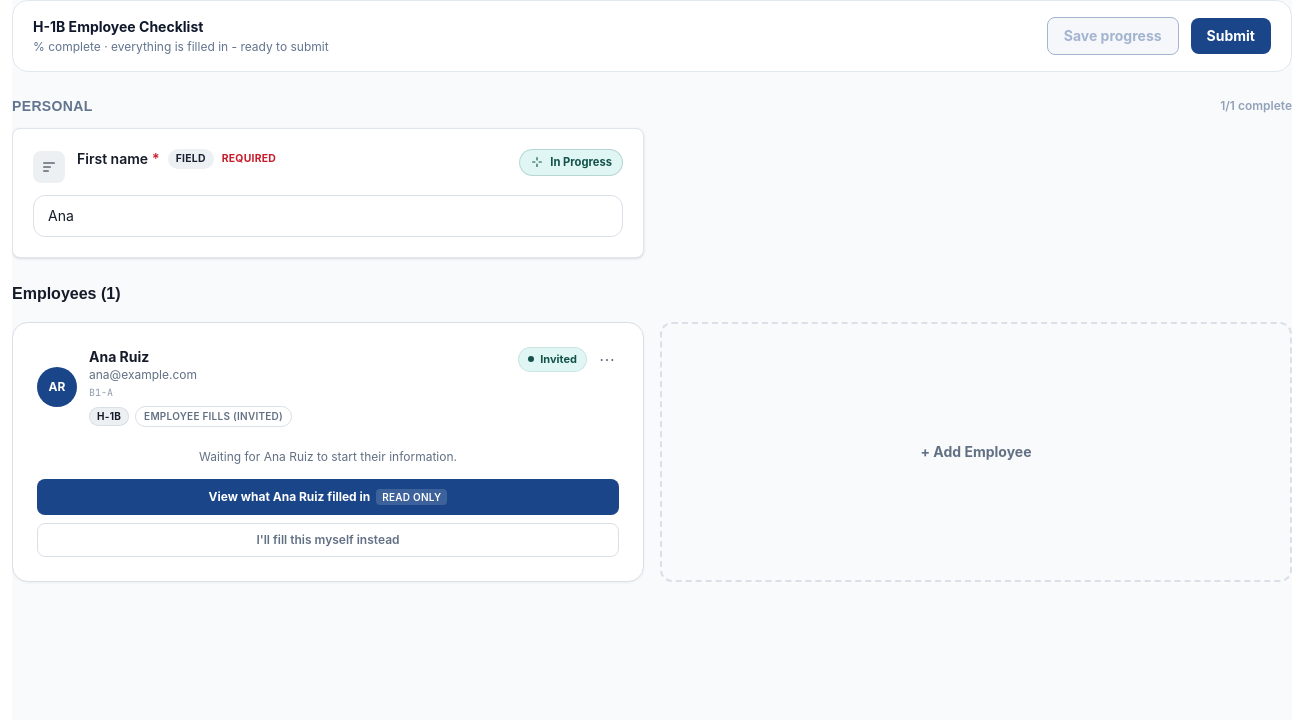
Test case: read-only view of an invited employee › opens with a 'Read only view' banner, loads the file WITHOUT write ability, polls, and shows no Save progress / Submit
Step 1. Click the button "View what Ana Ruiz filled in" → point(328, 497), box [37,479,619,515]
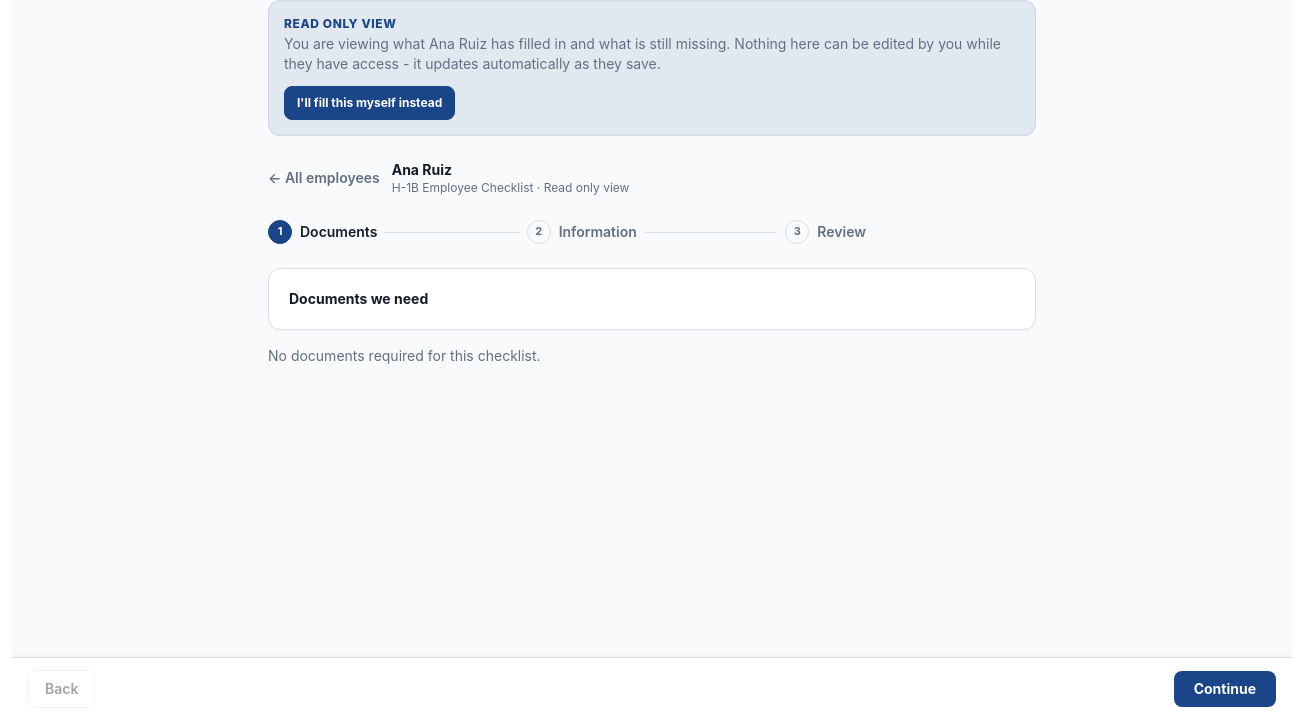
Expected: the message with test id "read-only-banner" is shown, [268,0,1036,136]
Expected: the text "Read only view" is shown, [284,16,396,31]
Expected: the button "Save progress" is gone
// the employee's answer is displayed but cannot be edited
Step 2. Click the button "Continue" → point(1225, 689), box [1174,671,1276,707]
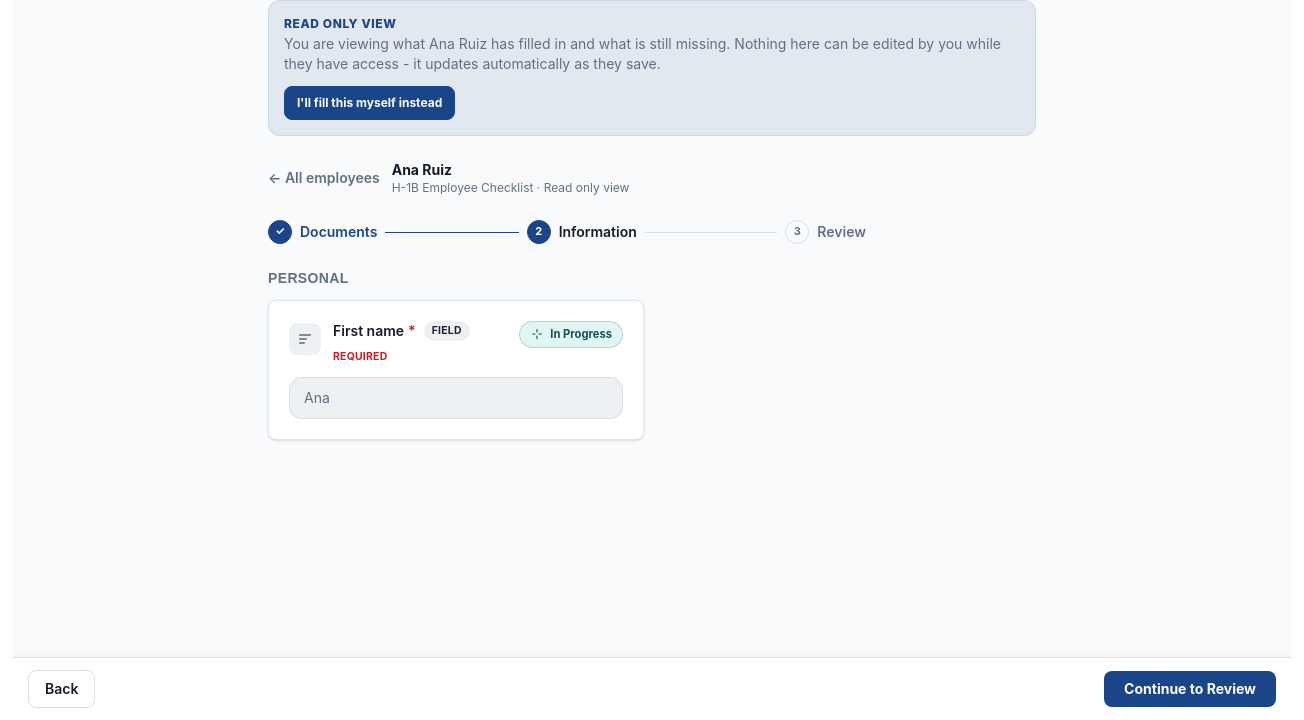
Expected: the field showing "Ana" is disabled, [289,377,623,419]
